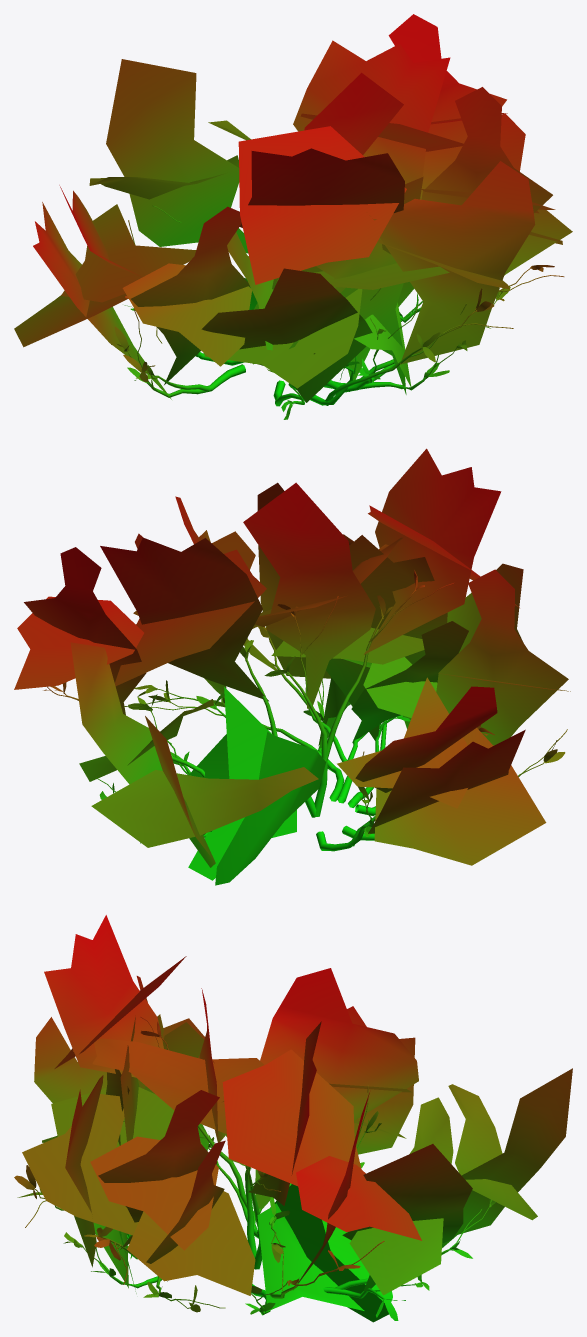
The model's file is Downy Willow_LOD4_Var4_wknlfiuqx.fbx.
3 views of the same model, one above another, from view 1: azimuth 30°, elevation 25°; view 2: azimuth 150°, elevation 25°; view 3: azimuth 270°, elevation 25° (orthographic).
Visible parts, largest first — view 1: _qa1r_Var4_LOD4; view 2: _qa1r_Var4_LOD4; view 3: _qa1r_Var4_LOD4.
Boxes of the visible parts, left/top/right/bottom form: _qa1r_Var4_LOD4: left=14, top=14, right=572, bottom=419; _qa1r_Var4_LOD4: left=14, top=448, right=570, bottom=885; _qa1r_Var4_LOD4: left=14, top=915, right=572, bottom=1322.
Size of the model in its own units: 131 by 83.4 by 125.
